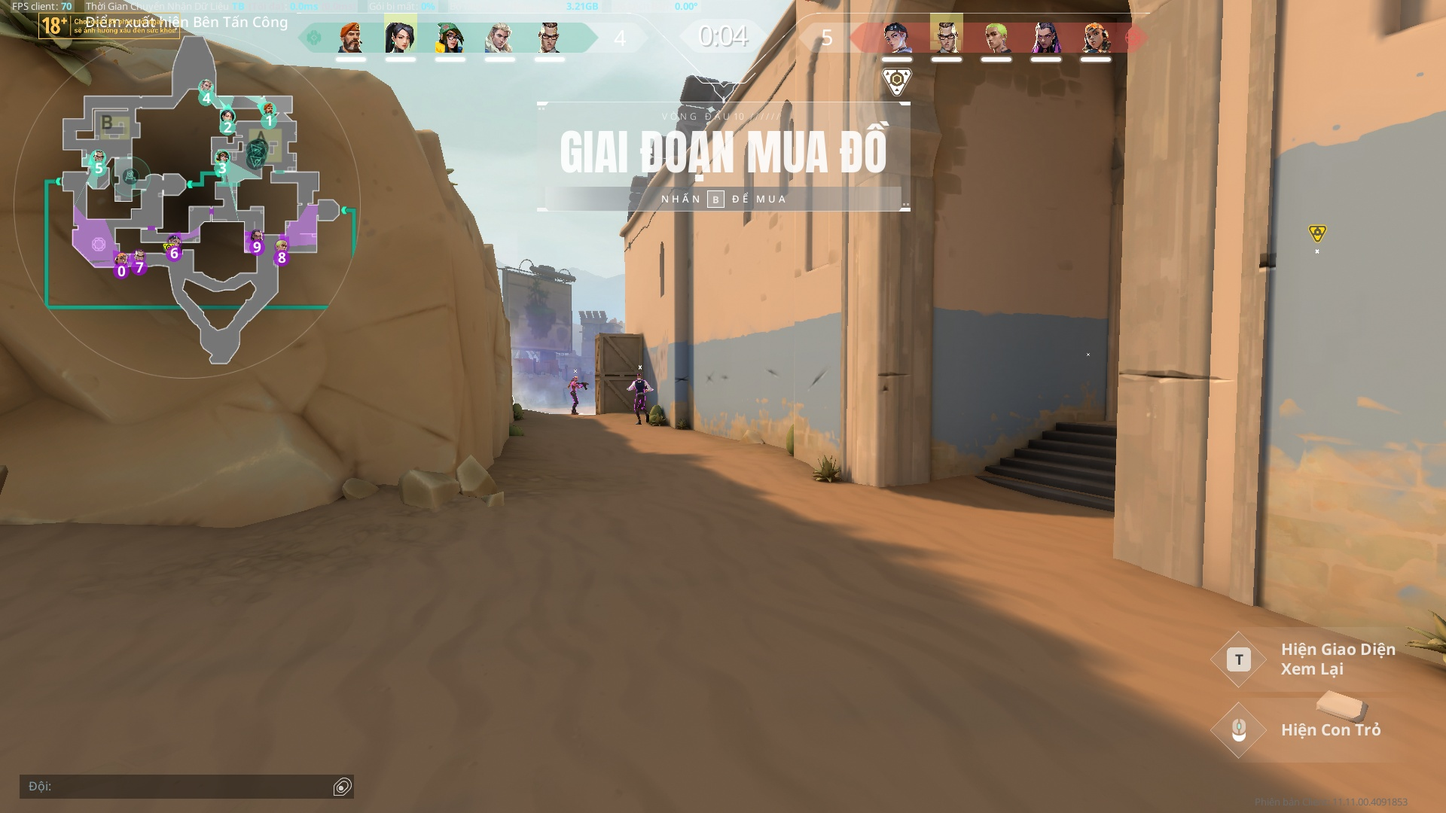body: (633, 378, 647, 394), (570, 379, 578, 391)
head: (572, 374, 578, 381), (636, 373, 642, 379)
